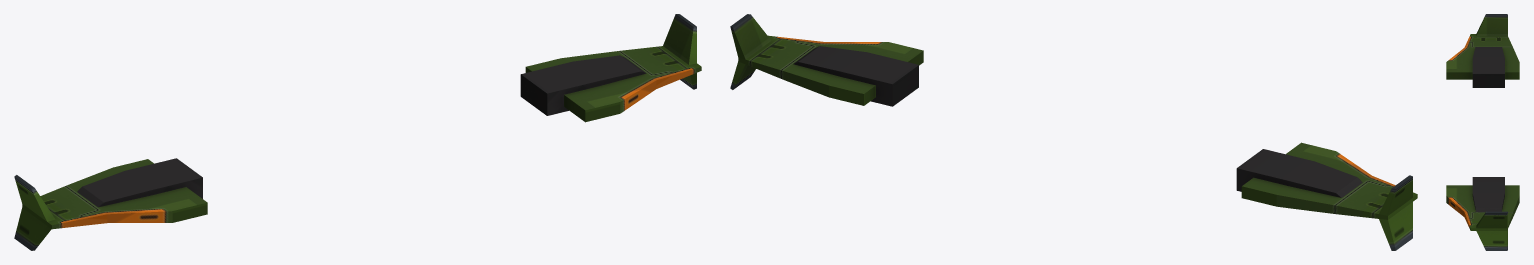
The model's file is Mod-D_blue.FBX.
3 renders of one model, left to right at view 1: azimuth 30°, elevation 25°; view 2: azimuth 150°, elevation 25°; view 3: azimuth 270°, elevation 25°, orthographic. The views are drawn at different scales.
Visible parts, largest first — view 1: Mod-D_Right, Mod-D_Left; view 2: Mod-D_Left, Mod-D_Right; view 3: Mod-D_Left, Mod-D_Right.
Boxes of the visible parts, <box> form: Mod-D_Right: <box>14,158,207,250</box>; Mod-D_Left: <box>520,14,701,122</box>; Mod-D_Left: <box>730,14,923,106</box>; Mod-D_Right: <box>1236,142,1417,250</box>; Mod-D_Left: <box>1446,177,1519,250</box>; Mod-D_Right: <box>1446,14,1519,87</box>.
Bounding box in the file's own units: 11397 × 1766 × 1025.
